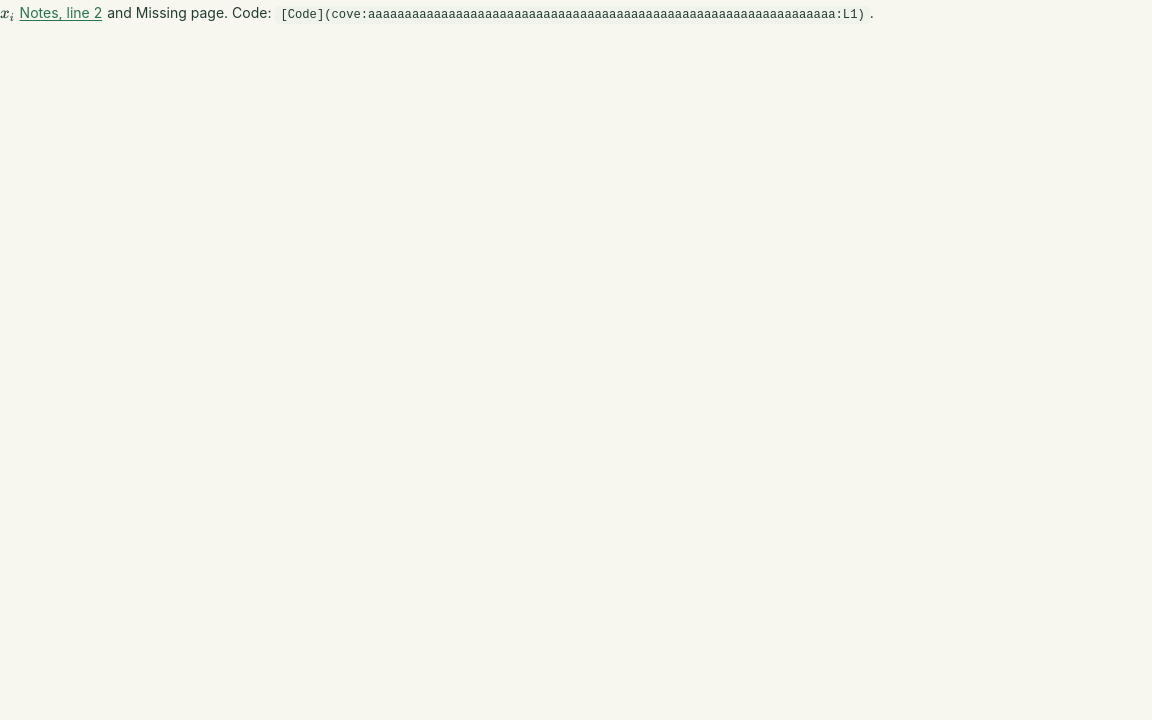
Scenario: only citations with an existing document and section open saved source text
This screenshot has width=1152, height=720.
Step 1. Click the button "Notes, line 2" → (61, 13), box top-left (19, 2), bottom-right (103, 24)
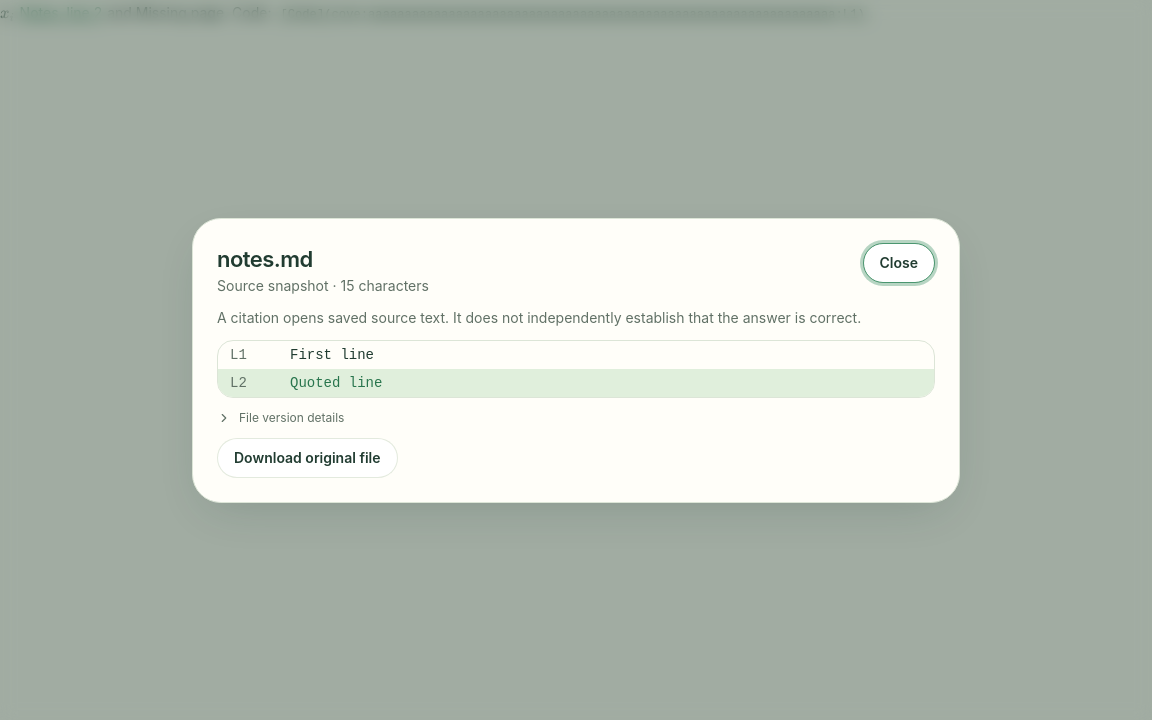
Result: the text "Quoted line" is shown at top-left (290, 374), bottom-right (382, 390)
Step 2. Click the button "Download original file" → (307, 458), box top-left (217, 438), bottom-right (398, 478)
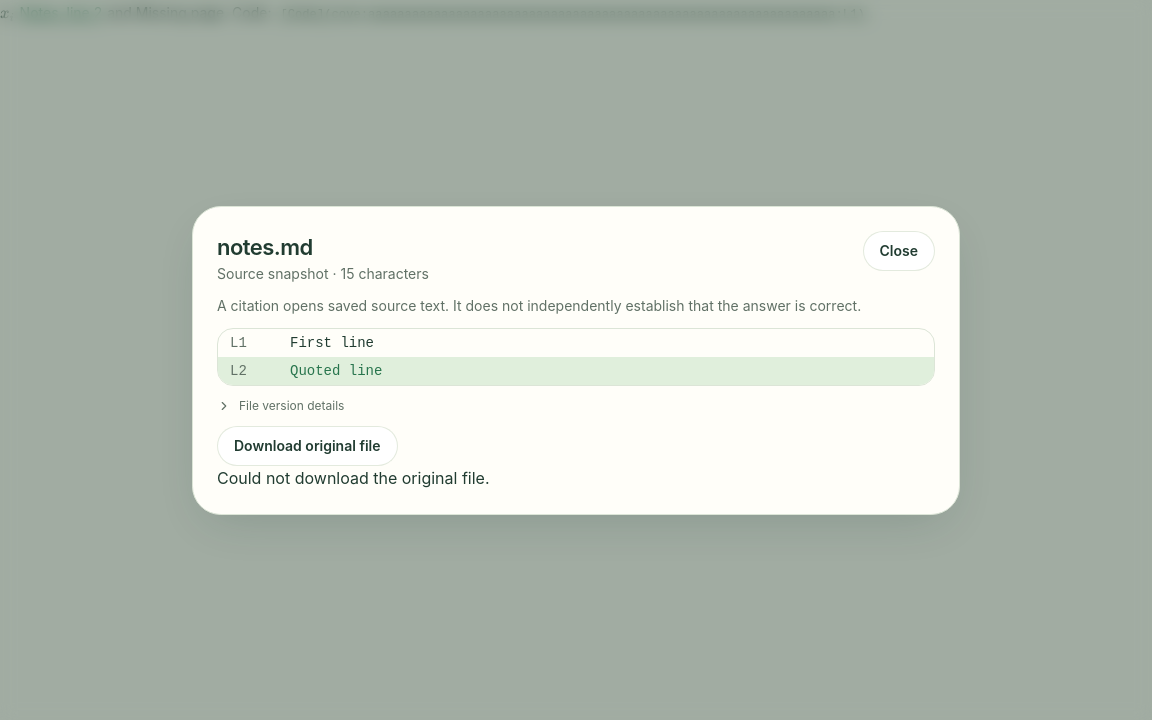
Step 3. Press Escape
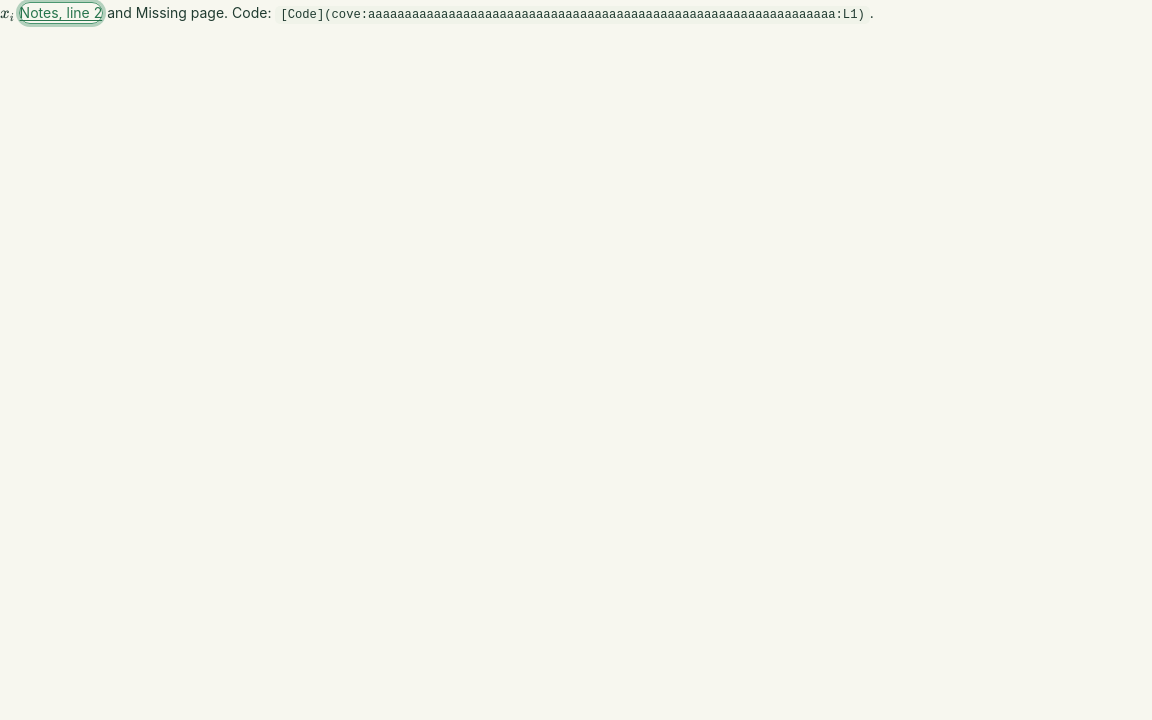
Result: the dialog is gone
